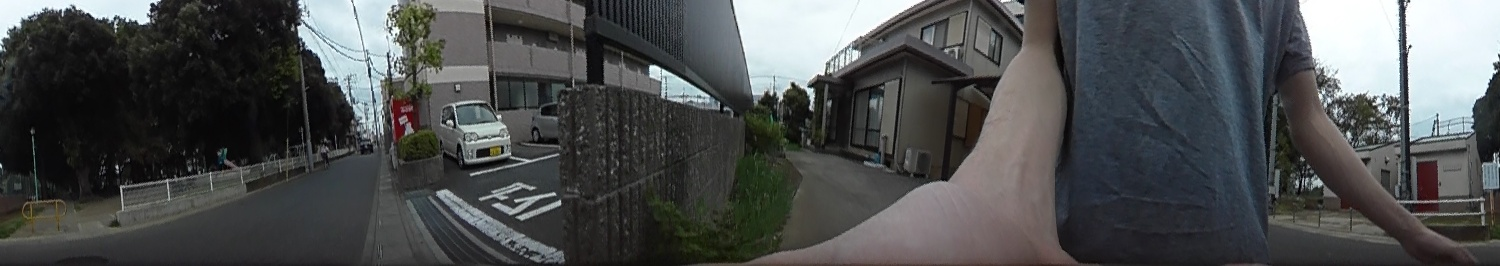difficult_person: (318, 138, 332, 167)
